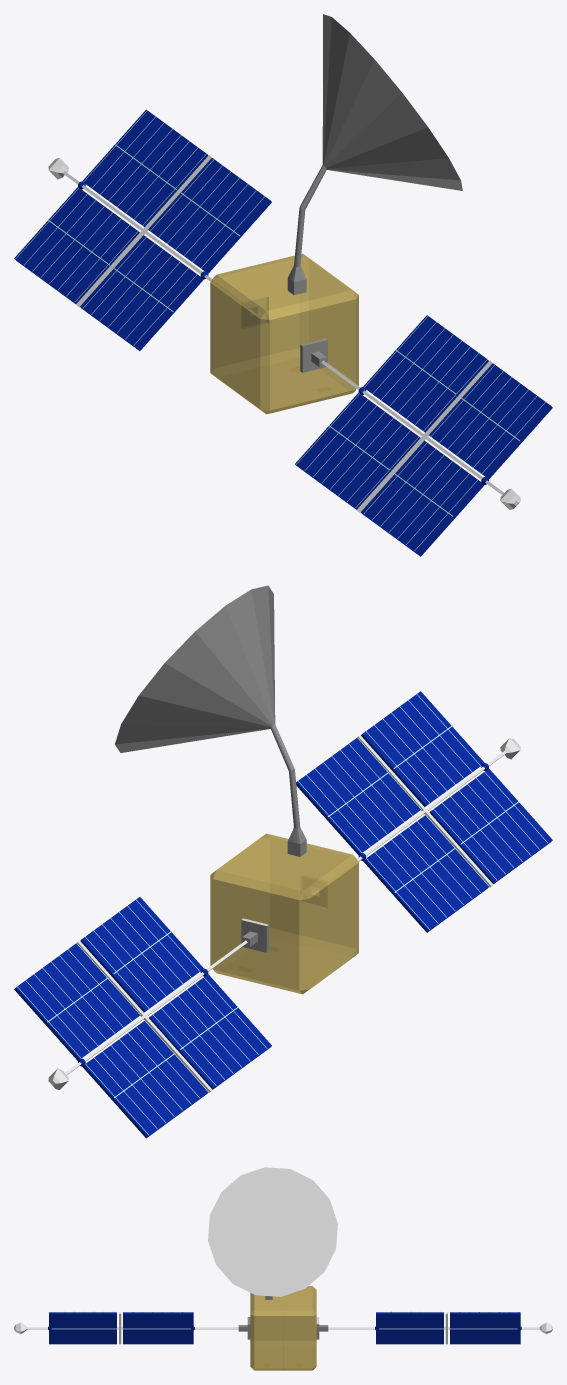
File: satellit.fbx
3 views of the same model, one above another, from view 1: azimuth 30°, elevation 25°; view 2: azimuth 150°, elevation 25°; view 3: azimuth 270°, elevation 25° (orthographic). The views are drawn at different scales.
Parts seen in each view (by area): view 1: Cube, Cube.004, Cube.002, Cube.003, Cube.001, Cube.012; view 2: Cube, Cube.002, Cube.004, Cube.001, Cube.003, Cube.012; view 3: Cube, Cube.002, Cube.004, Cube.001, Cube.003.
Boxes of the visible parts, x1,y1,x2,y2 form: Cube: [48, 14, 520, 512]; Cube.004: [14, 109, 264, 345]; Cube.002: [295, 315, 545, 550]; Cube.003: [80, 158, 271, 350]; Cube.001: [361, 363, 552, 556]; Cube.012: [48, 144, 519, 516]; Cube: [48, 585, 520, 1092]; Cube.002: [296, 694, 547, 932]; Cube.004: [14, 899, 267, 1138]; Cube.001: [361, 691, 552, 884]; Cube.003: [80, 897, 271, 1089]; Cube.012: [47, 726, 518, 1097]; Cube: [14, 1167, 552, 1370]; Cube.002: [74, 1311, 194, 1344]; Cube.004: [391, 1311, 521, 1344]; Cube.001: [48, 1312, 116, 1344]; Cube.003: [375, 1312, 443, 1344].
Size of the model in its own units: 703 by 1118 by 2603.
